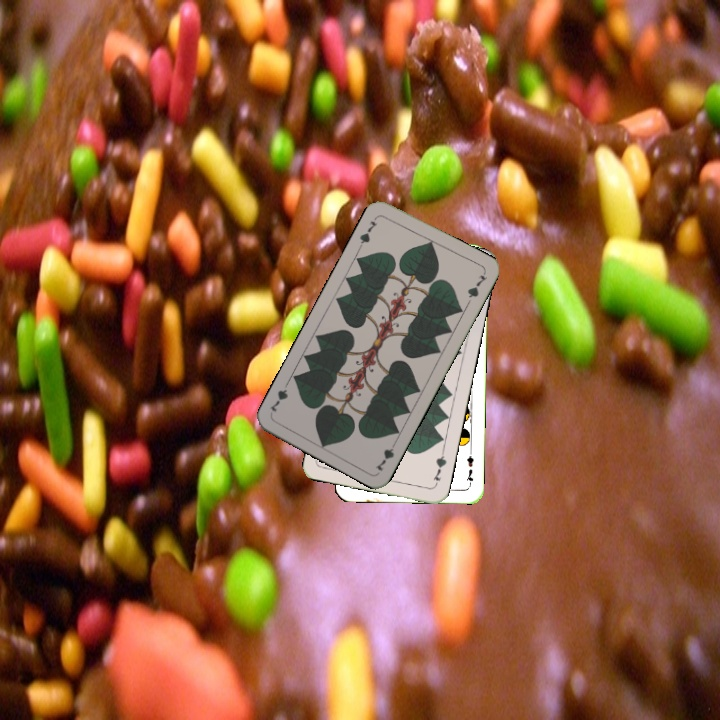E7: (462, 447, 476, 488)
G7: (371, 436, 399, 474), (355, 212, 380, 250), (429, 448, 449, 483)
